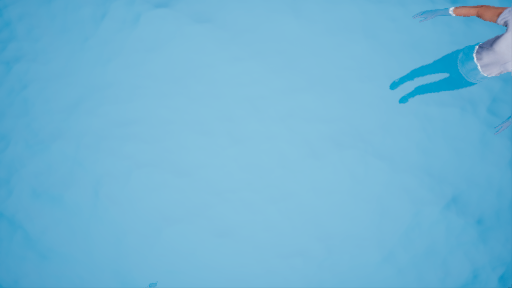person: (390, 2, 512, 125)
